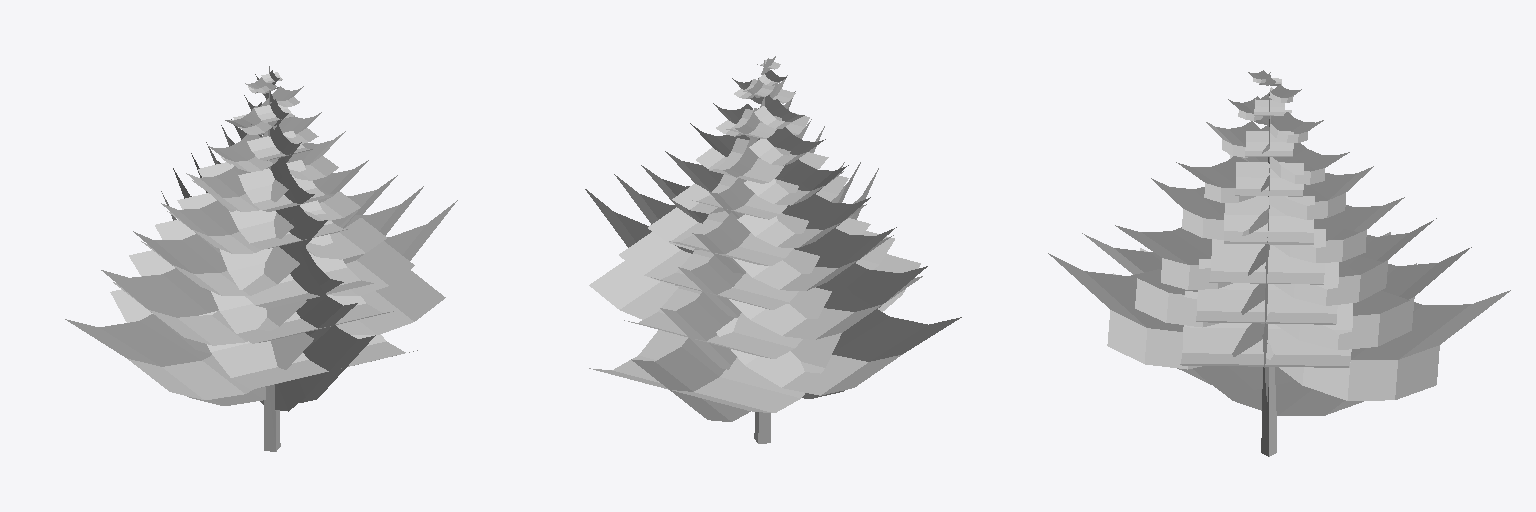
3 views of the same model, side by side, from view 1: azimuth 30°, elevation 25°; view 2: azimuth 150°, elevation 25°; view 3: azimuth 270°, elevation 25° (orthographic).
Parts seen in each view (by area): view 1: trunk; view 2: trunk; view 3: trunk.
Boxes of the visible parts, box(x1,y1,x2,y2) form: trunk: box(65, 66, 457, 451); trunk: box(585, 56, 961, 443); trunk: box(1048, 70, 1510, 456).
Bounding box in the file's own units: 16.21 × 15.35 × 16.9.